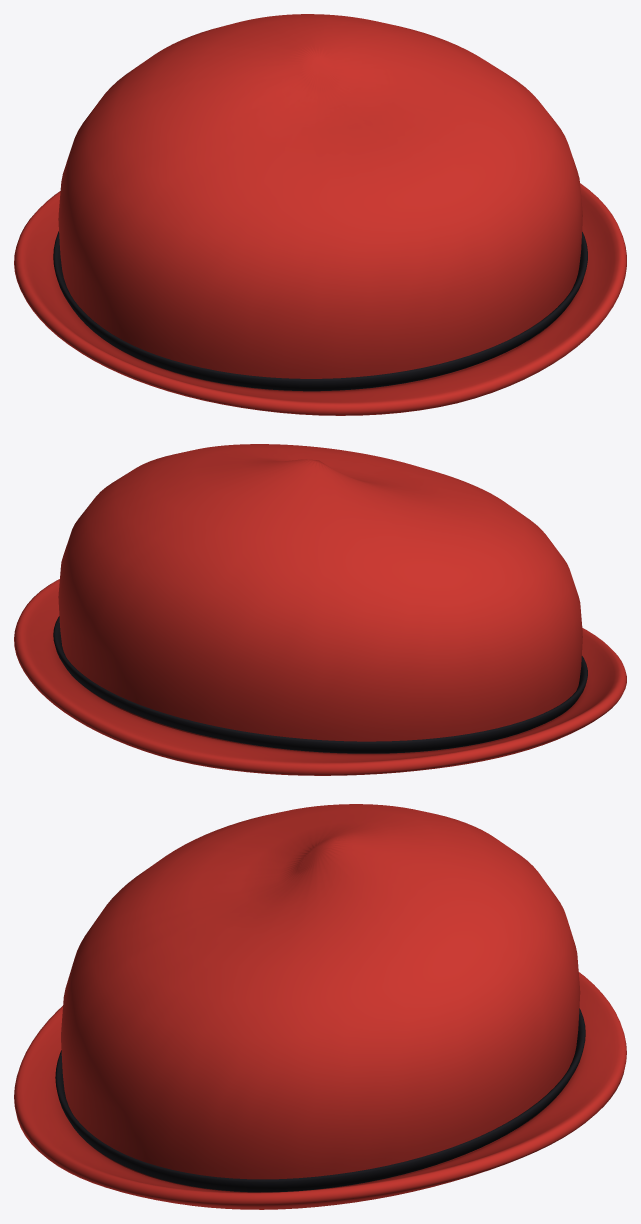
The model's file is hw_bowler.glb.
3 renders of one model, top to bottom at view 1: azimuth 30°, elevation 25°; view 2: azimuth 150°, elevation 25°; view 3: azimuth 270°, elevation 25°, orthographic. The views are drawn at different scales.
Visible parts, largest first — view 1: hw_bowler, hw_bowler_brim, hw_bowler_band; view 2: hw_bowler, hw_bowler_brim, hw_bowler_band; view 3: hw_bowler, hw_bowler_brim, hw_bowler_band.
Part boxes in pixels (<box>): hw_bowler: <box>58,14,582,391</box>; hw_bowler_brim: <box>14,183,626,415</box>; hw_bowler_band: <box>53,231,587,391</box>; hw_bowler: <box>58,444,582,754</box>; hw_bowler_brim: <box>14,579,626,775</box>; hw_bowler_band: <box>53,616,587,753</box>; hw_bowler: <box>61,804,580,1192</box>; hw_bowler_brim: <box>14,972,626,1209</box>; hw_bowler_band: <box>55,1008,585,1192</box>.
Bounding box in the file's own units: 0.9666 × 0.4166 × 0.8769.
